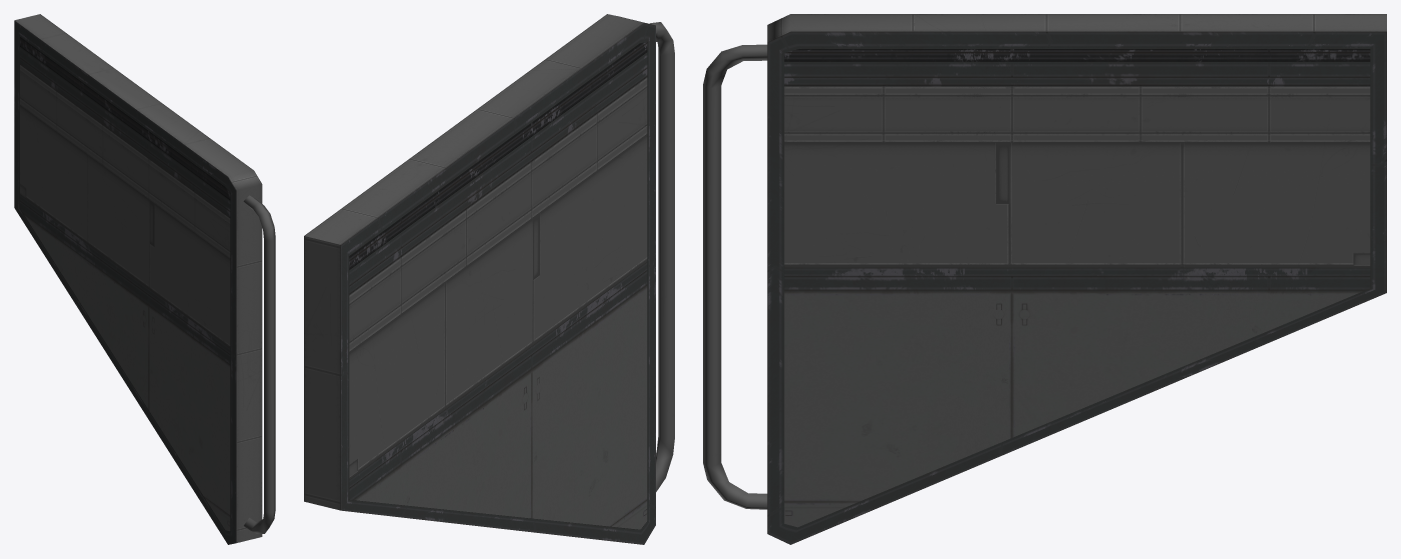
The model's file is Subway_wall_3B_side1_L2.fbx.
The picture shows the model from 3 angles, left to right: view 1: azimuth 30°, elevation 25°; view 2: azimuth 150°, elevation 25°; view 3: azimuth 270°, elevation 25°; orthographic projection. The views are drawn at different scales.
Visible parts, largest first — view 1: polySurface268; view 2: polySurface268; view 3: polySurface268.
Boxes of the visible parts, <box> form: polySurface268: <box>14,14,275,544</box>; polySurface268: <box>304,14,674,544</box>; polySurface268: <box>703,14,1386,544</box>.
Bounding box in the file's own units: 15.46 × 209 × 252.
